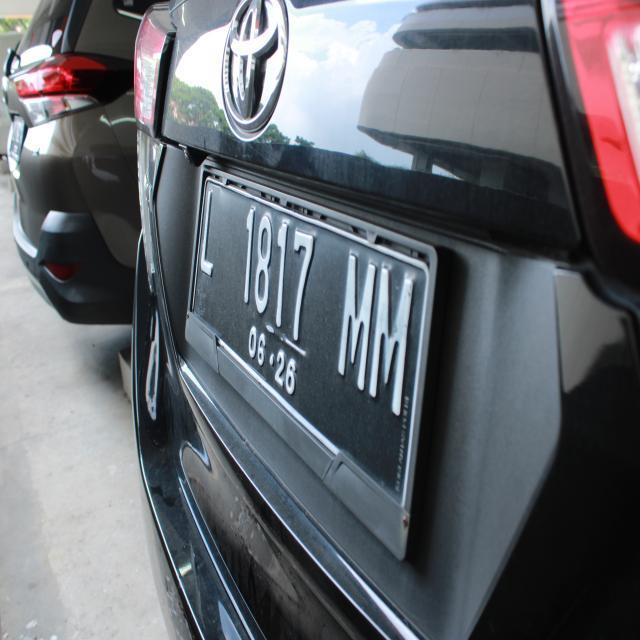1: (272, 202, 299, 334), (230, 200, 260, 304)
7: (290, 208, 320, 344)
8: (254, 202, 280, 322)
L: (193, 177, 220, 278)
M: (368, 242, 420, 418), (328, 231, 374, 395)
